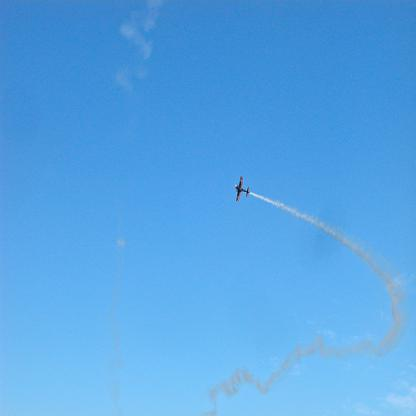aeroplane: (232, 173, 249, 204)
